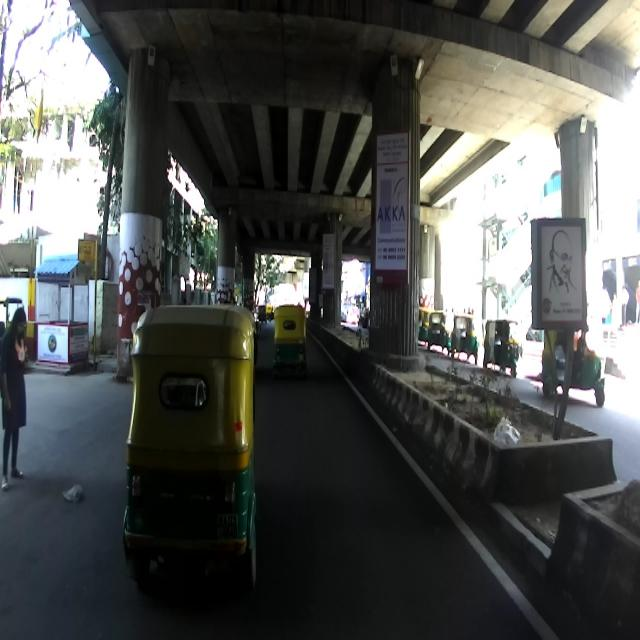autorickshaw: (123, 303, 257, 589), (542, 308, 606, 406)
